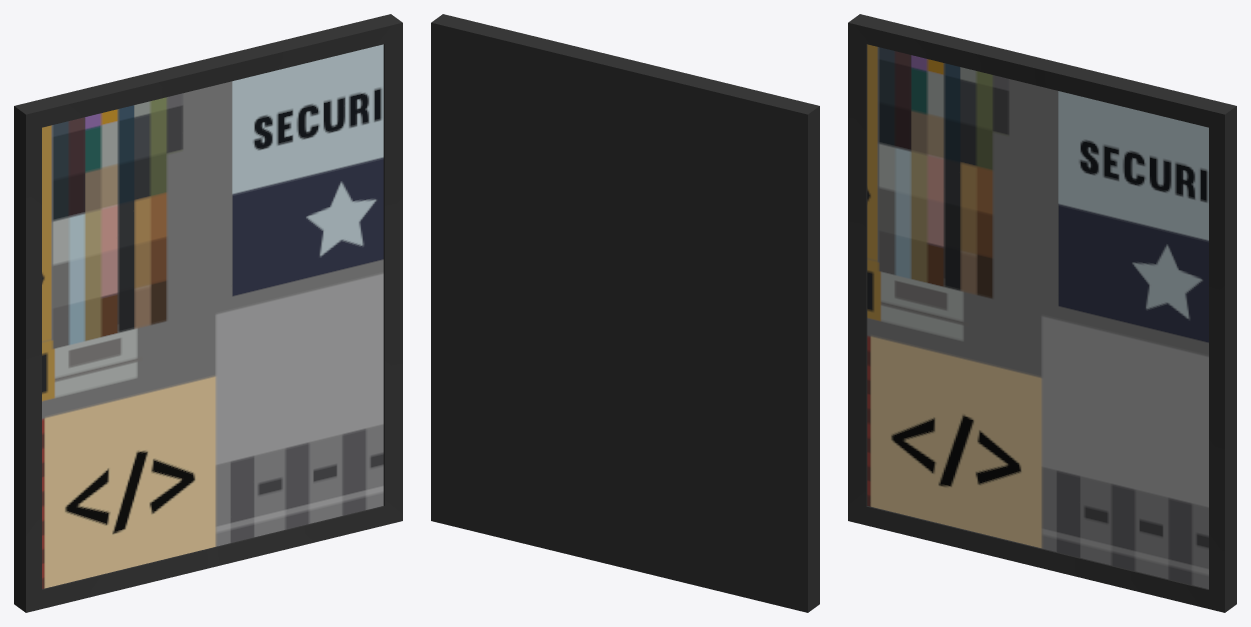
Rendered from Poster_Evo.fbx.
3 views of the same model, side by side, from view 1: azimuth 30°, elevation 25°; view 2: azimuth 150°, elevation 25°; view 3: azimuth 330°, elevation 25° (orthographic).
Visible parts, largest first — view 1: Poster_Evo; view 2: Poster_Evo; view 3: Poster_Evo.
Part boxes in pixels (x1,y1,x2,y2): Poster_Evo: (14,14,402,612); Poster_Evo: (431,14,819,612); Poster_Evo: (848,14,1236,612).
Size of the model in its own units: 1.1 by 1.39 by 0.06.
